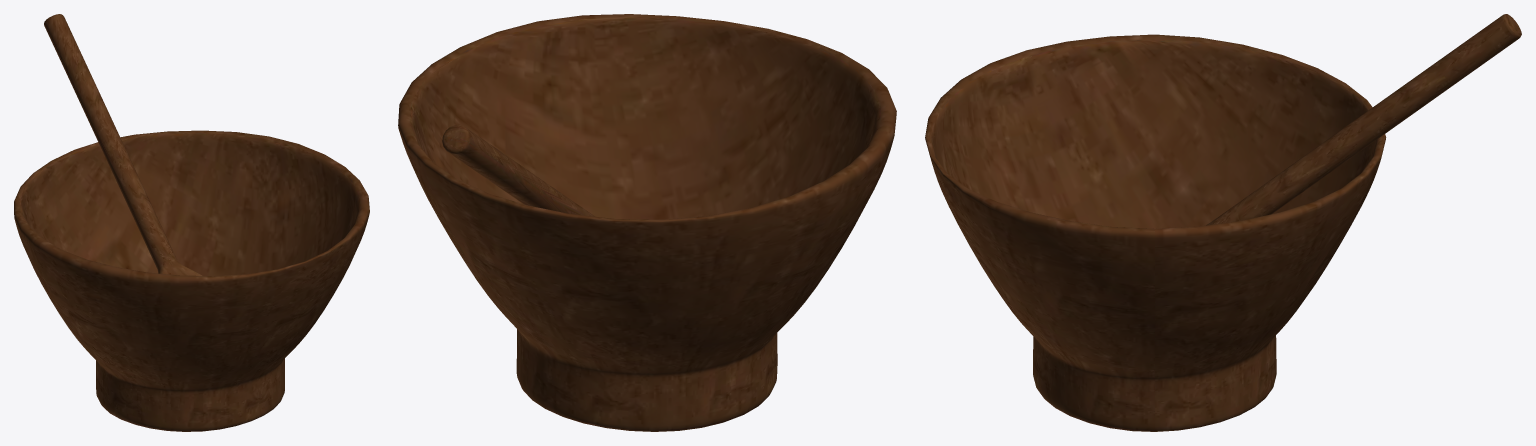
The model's file is wooden-bowl-spoon.glb.
The picture shows the model from 3 angles, left to right: view 1: azimuth 30°, elevation 25°; view 2: azimuth 150°, elevation 25°; view 3: azimuth 270°, elevation 25°; orthographic projection. The views are drawn at different scales.
Visible parts, largest first — view 1: Object_2, Object_3; view 2: Object_2, Object_3; view 3: Object_2, Object_3.
Part boxes in pixels (x1,y1,x2,y2): Object_2: [14, 130, 369, 431]; Object_3: [44, 14, 202, 275]; Object_2: [398, 14, 896, 431]; Object_3: [442, 125, 594, 216]; Object_2: [925, 34, 1386, 431]; Object_3: [1206, 14, 1521, 225].
Bounding box in the file's own units: 0.1831 × 0.1589 × 0.2332.
Materials: 2 (2 with a texture image).
